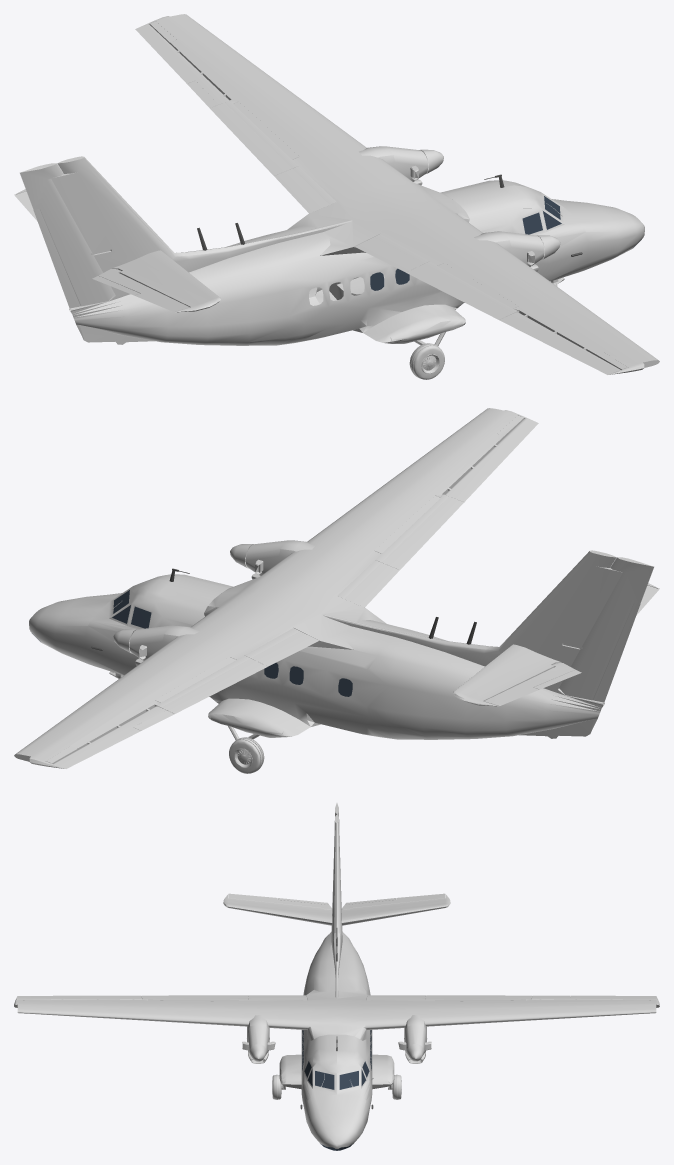
3 views of the same model, one above another, from view 1: azimuth 30°, elevation 25°; view 2: azimuth 150°, elevation 25°; view 3: azimuth 270°, elevation 25° (orthographic). The views are drawn at different scales.
Parts seen in each view (by area): view 1: body, glass; view 2: body, glass; view 3: body, glass.
Boxes of the visible parts, x1=… form: body: x1=14, y1=14, x2=659, y2=379; glass: x1=370, y1=196, x2=641, y2=290; body: x1=14, y1=408, x2=659, y2=773; glass: x1=32, y1=590, x2=352, y2=696; body: x1=14, y1=803, x2=659, y2=1148; glass: x1=302, y1=1030, x2=371, y2=1150.
Size of the model in its own units: 1.66 by 0.6659 by 2.2.
